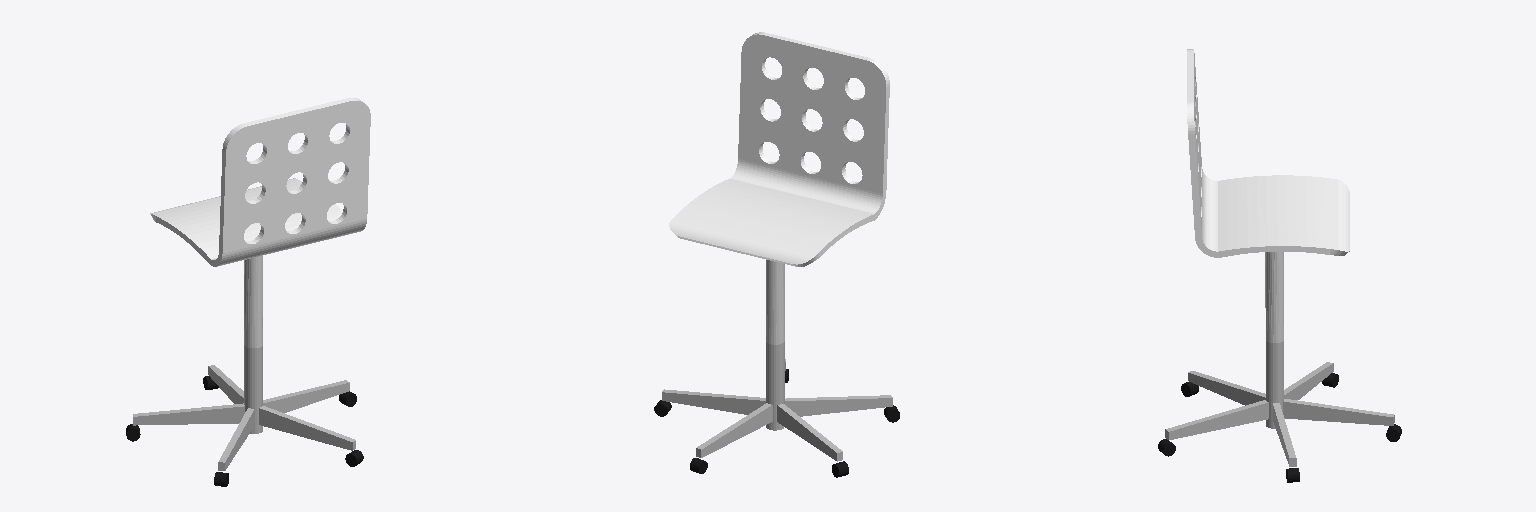
The picture shows the model from 3 angles: view 1: azimuth 30°, elevation 25°; view 2: azimuth 150°, elevation 25°; view 3: azimuth 270°, elevation 25°; orthographic projection.
Visible parts, largest first — view 1: Mesh1 Group2 Group1 Model, Mesh12 Group3 ske3F1 Group1 Model, Mesh7 Group6 Group3 ske3F1 Group1 Model, Mesh5 Group5 Group3 ske3F1 Group1 Model, Mesh11 Group8 Group3 ske3F1 Group1 Model, Mesh9 Group7 Group3 ske3F1 Group1 Model, Mesh3 Group4 Group3 ske3F1 Group1 Model; view 2: Mesh1 Group2 Group1 Model, Mesh12 Group3 ske3F1 Group1 Model, Mesh9 Group7 Group3 ske3F1 Group1 Model, Mesh11 Group8 Group3 ske3F1 Group1 Model, Mesh3 Group4 Group3 ske3F1 Group1 Model, Mesh7 Group6 Group3 ske3F1 Group1 Model; view 3: Mesh1 Group2 Group1 Model, Mesh12 Group3 ske3F1 Group1 Model, Mesh3 Group4 Group3 ske3F1 Group1 Model, Mesh5 Group5 Group3 ske3F1 Group1 Model, Mesh9 Group7 Group3 ske3F1 Group1 Model, Mesh7 Group6 Group3 ske3F1 Group1 Model, Mesh11 Group8 Group3 ske3F1 Group1 Model.
Part boxes in pixels (left/top/right/bottom): Mesh1 Group2 Group1 Model: left=150, top=98, right=370, bottom=266; Mesh12 Group3 ske3F1 Group1 Model: left=244, top=256, right=262, bottom=433; Mesh7 Group6 Group3 ske3F1 Group1 Model: left=133, top=403, right=244, bottom=425; Mesh5 Group5 Group3 ske3F1 Group1 Model: left=259, top=406, right=355, bottom=450; Mesh11 Group8 Group3 ske3F1 Group1 Model: left=263, top=380, right=349, bottom=412; Mesh9 Group7 Group3 ske3F1 Group1 Model: left=218, top=408, right=254, bottom=470; Mesh3 Group4 Group3 ske3F1 Group1 Model: left=208, top=365, right=243, bottom=403; Mesh1 Group2 Group1 Model: left=669, top=32, right=889, bottom=266; Mesh12 Group3 ske3F1 Group1 Model: left=766, top=260, right=784, bottom=430; Mesh9 Group7 Group3 ske3F1 Group1 Model: left=785, top=395, right=892, bottom=416; Mesh11 Group8 Group3 ske3F1 Group1 Model: left=662, top=389, right=765, bottom=414; Mesh3 Group4 Group3 ske3F1 Group1 Model: left=696, top=403, right=772, bottom=457; Mesh7 Group6 Group3 ske3F1 Group1 Model: left=777, top=404, right=842, bottom=461; Mesh1 Group2 Group1 Model: left=1187, top=49, right=1349, bottom=257; Mesh12 Group3 ske3F1 Group1 Model: left=1265, top=252, right=1283, bottom=428; Mesh3 Group4 Group3 ske3F1 Group1 Model: left=1283, top=399, right=1394, bottom=425; Mesh5 Group5 Group3 ske3F1 Group1 Model: left=1165, top=400, right=1268, bottom=439; Mesh9 Group7 Group3 ske3F1 Group1 Model: left=1188, top=371, right=1265, bottom=405; Mesh7 Group6 Group3 ske3F1 Group1 Model: left=1284, top=362, right=1333, bottom=399; Mesh11 Group8 Group3 ske3F1 Group1 Model: left=1273, top=403, right=1296, bottom=466.
Bounding box in the file's own units: 0.5438 × 0.8763 × 0.545.